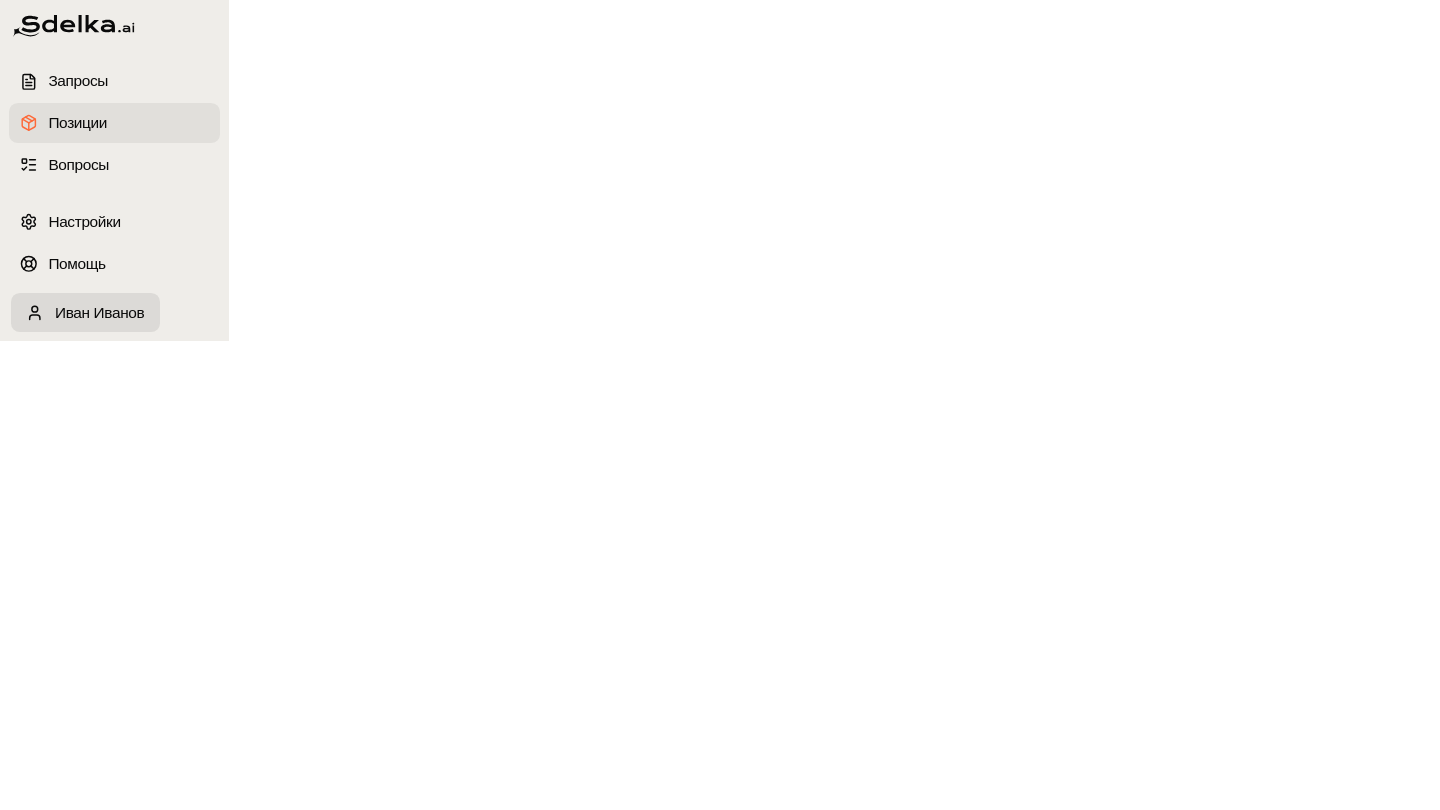
Test: AppRail items › Помощь opens the support dialog
The width and height of the screenshot is (1440, 810).
Expected: the dialog "Поддержка" is not shown
Click the button "Помощь": (114, 264) [9, 244, 220, 284]
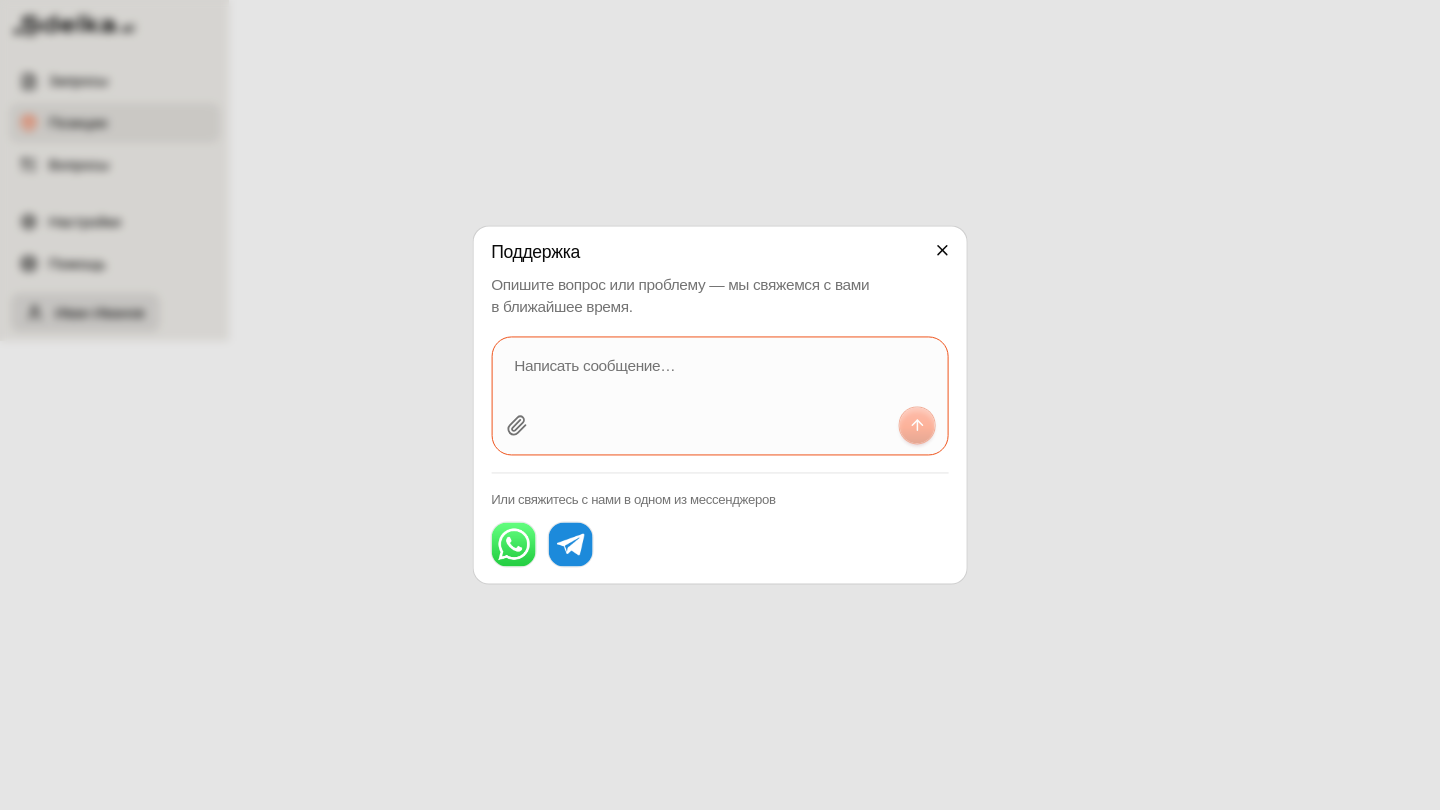
Result: the dialog "Поддержка" is shown at [474, 226, 966, 584]
